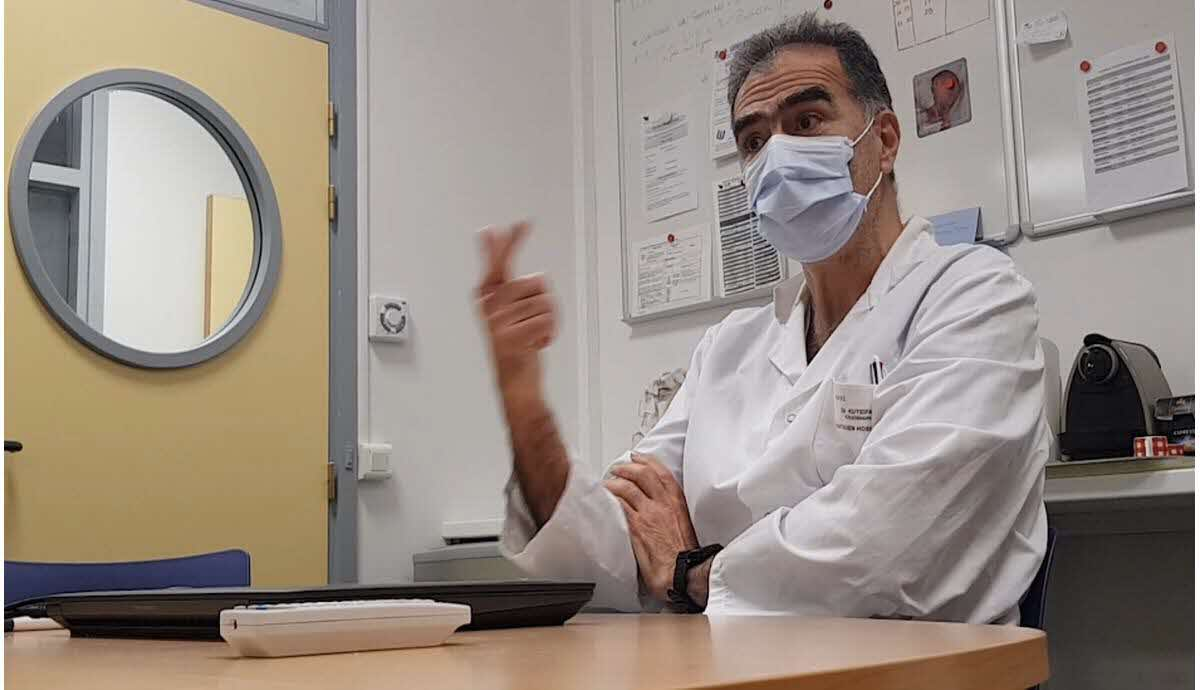with_mask: (752, 68, 860, 248)
